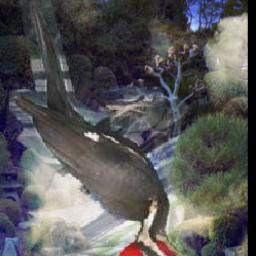Woodpecker: (9, 0, 211, 256)
